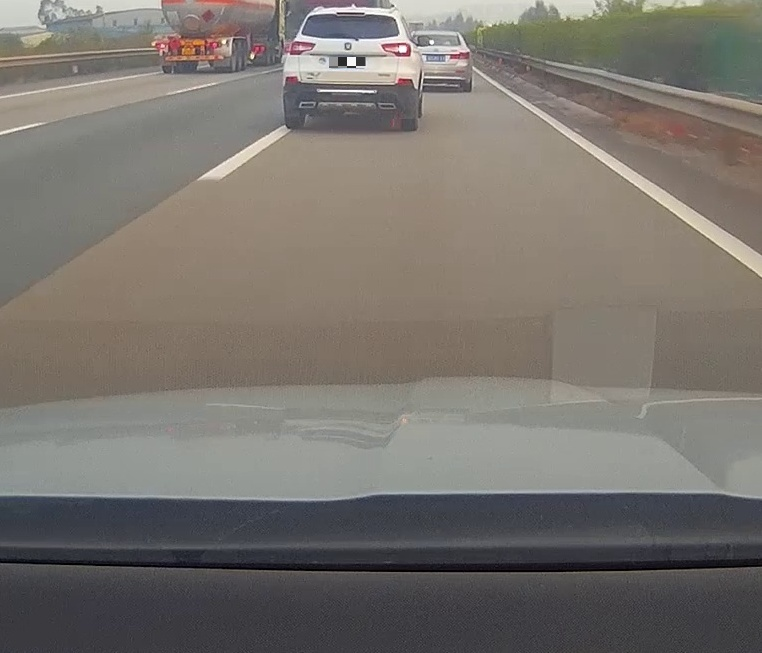L_light: (288, 41, 316, 56), (156, 43, 165, 48)
R_light: (380, 42, 411, 57), (206, 42, 217, 48)
T_light: (336, 12, 366, 16), (182, 39, 195, 42)
day-no: (150, 36, 234, 73)
day-right: (281, 7, 419, 131)
plate_1: (329, 57, 366, 68)
